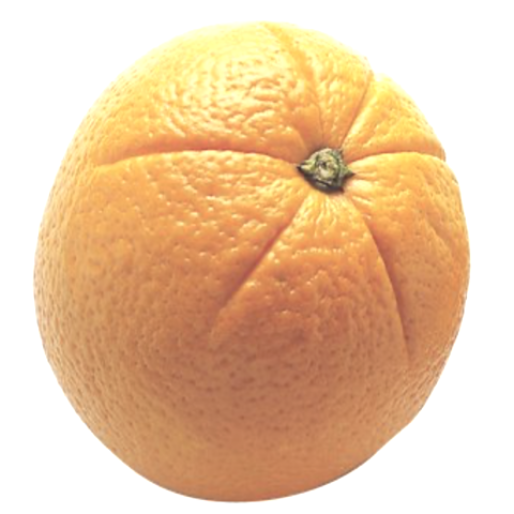orange: (17, 17, 510, 509)
